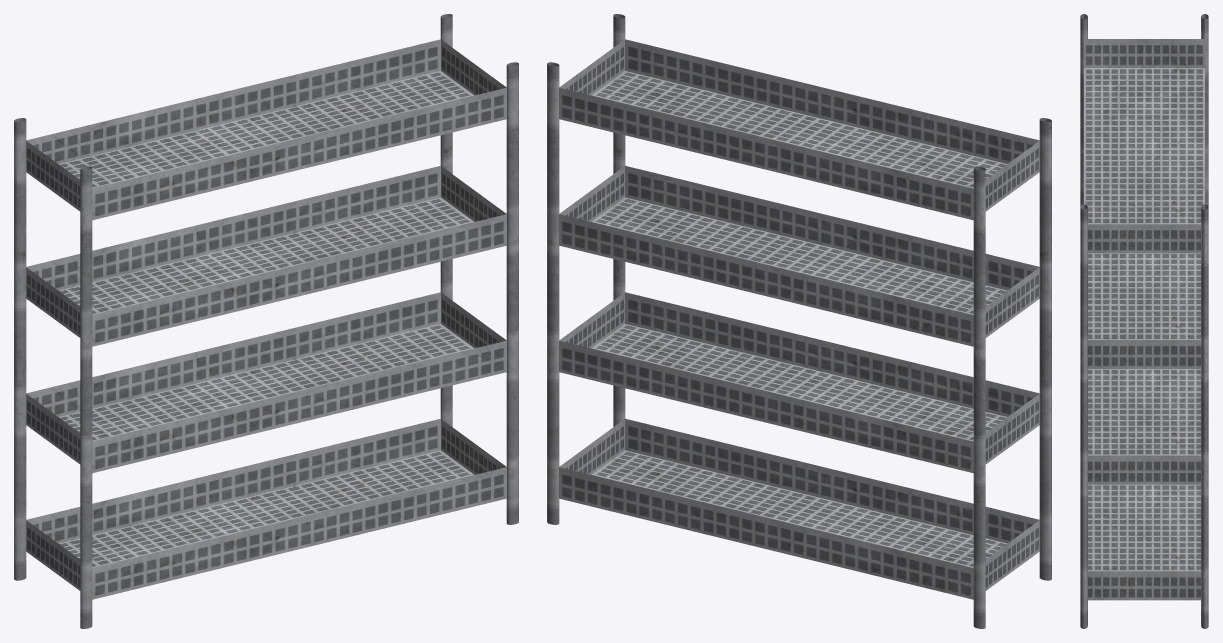
Rendered from estantes.glb.
The picture shows the model from 3 angles, left to right: view 1: azimuth 30°, elevation 25°; view 2: azimuth 150°, elevation 25°; view 3: azimuth 270°, elevation 25°; orthographic projection. The views are drawn at different scales.
Parts seen in each view (by area): view 1: Material2.001; view 2: Material2.001; view 3: Material2.001.
Part boxes in pixels (x1=…): Material2.001: x1=14, y1=14, x2=518, y2=628; Material2.001: x1=547, y1=14, x2=1051, y2=628; Material2.001: x1=1080, y1=14, x2=1208, y2=628.
Bounding box in the file's own units: 1.8 × 1.8 × 0.5.
2 materials, 2 textured.
